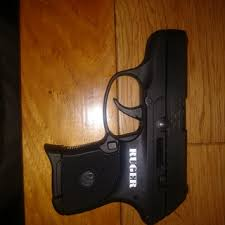gun: (53, 28, 188, 218)
